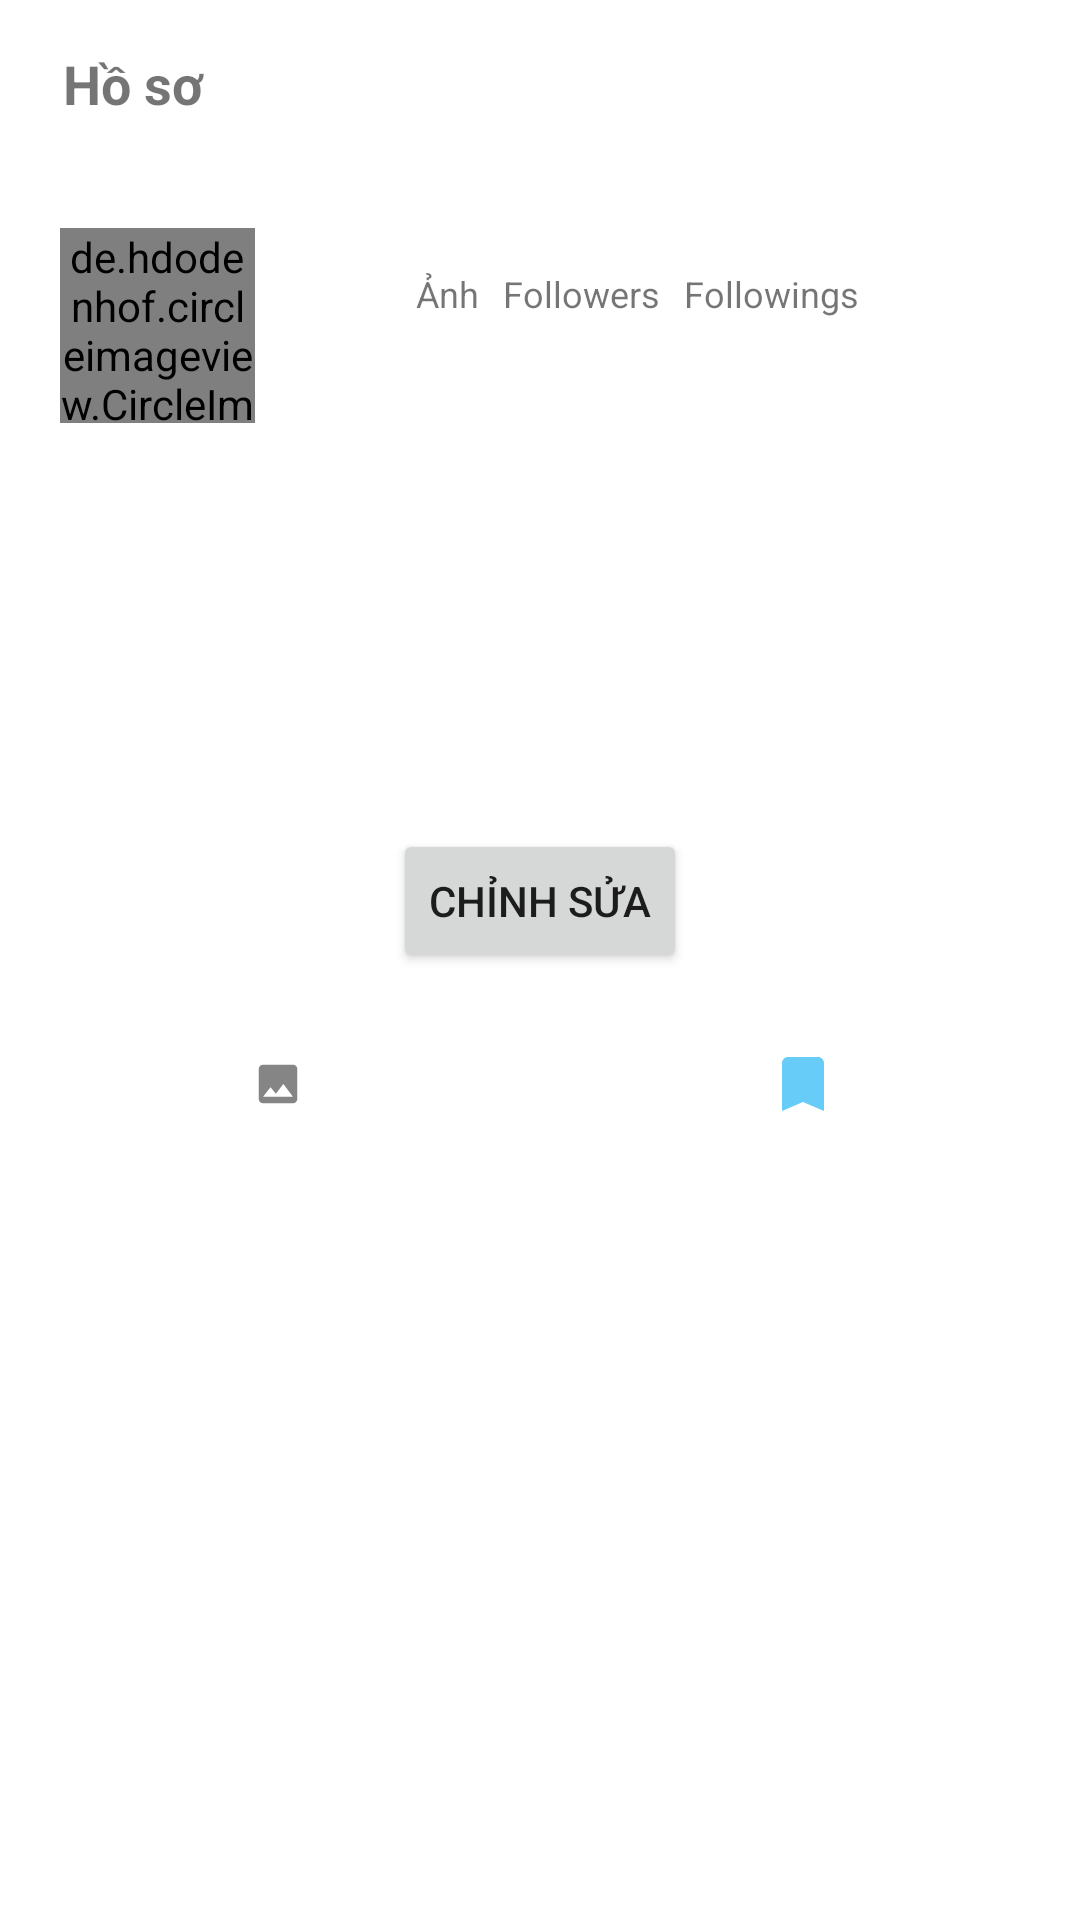

Icons on this 1080 x 1920 Android screen, each with the point to tap as (x=x, y=y):
images: (x=278, y=1084)
save: (x=803, y=1084)
